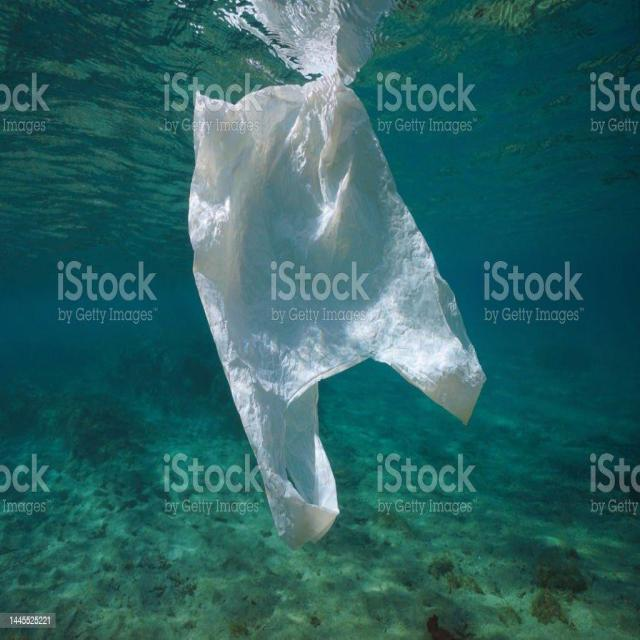Plastic_Bag: (187, 70, 482, 538)
